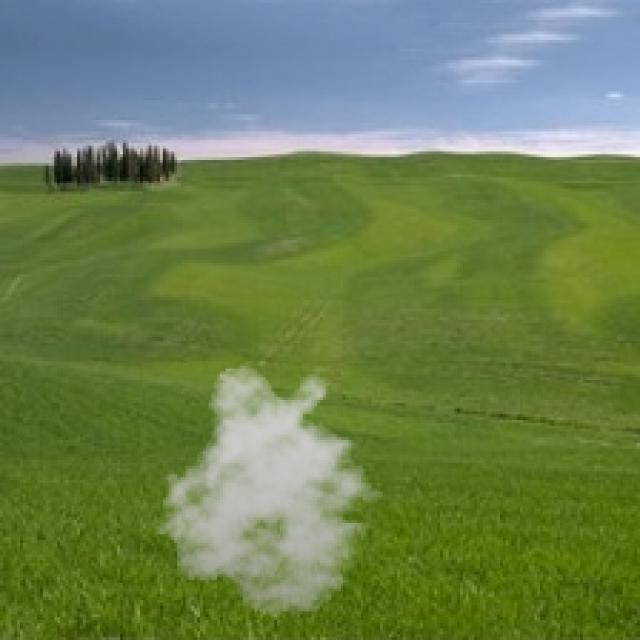smoke: (149, 363, 394, 617)
